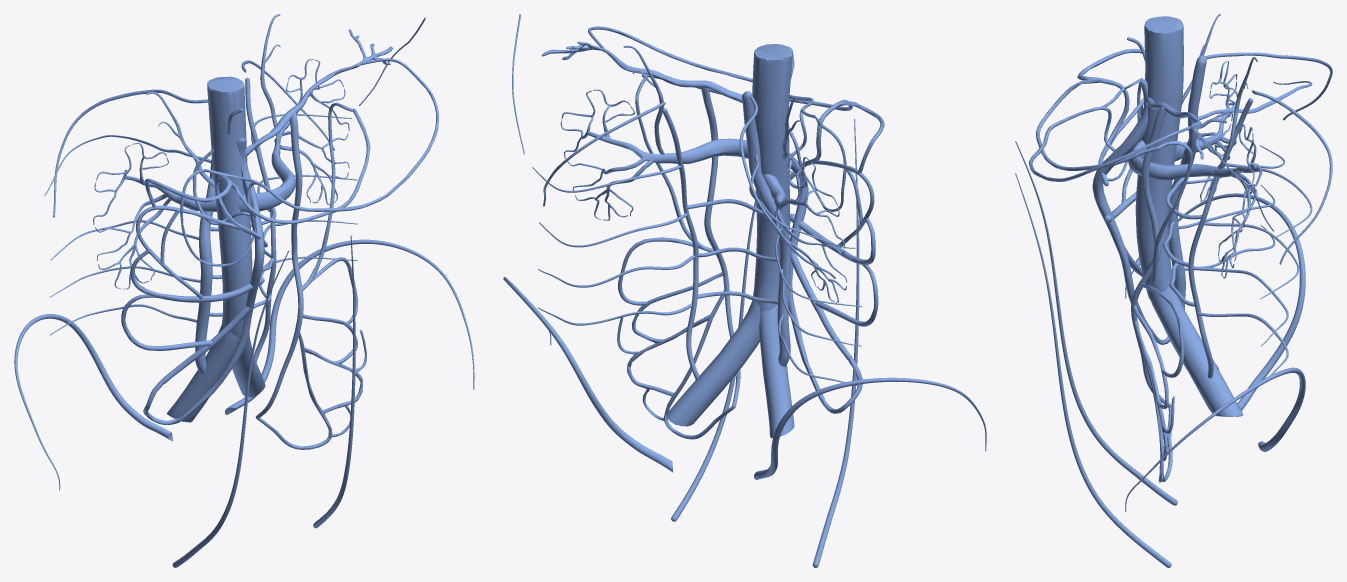
File: veines-abdomen.hi.glb
3 renders of one model, left to right at view 1: azimuth 30°, elevation 25°; view 2: azimuth 150°, elevation 25°; view 3: azimuth 270°, elevation 25°, orthographic. The views are drawn at different scales.
Visible parts, largest first — view 1: FJ3659, FJ3647, FJ3591, FJ3566, FJ3510, FJ3543, FJ3443, FJ3639, FJ3603, FJ3578, FJ3493, FJ3635 (+15 smaller); view 2: FJ3659, FJ3465, FJ3493, FJ3566, FJ3639, FJ3478, FJ3631, FJ3647, FJ3510, FJ3605, FJ3443, FJ3578 (+13 smaller); view 3: FJ3659, FJ3465, FJ3647, FJ3493, FJ3543, FJ3639, FJ3603, FJ3512, FJ3605, FJ3631, FJ3478, FJ3443 (+15 smaller).
Boxes of the visible parts, x1=… form: FJ3659: x1=207, y1=76, x2=252, y2=339; FJ3647: x1=143, y1=137, x2=264, y2=424; FJ3591: x1=130, y1=205, x2=264, y2=302; FJ3566: x1=167, y1=324, x2=239, y2=422; FJ3510: x1=225, y1=239, x2=474, y2=414; FJ3543: x1=144, y1=108, x2=370, y2=247; FJ3443: x1=255, y1=112, x2=303, y2=418; FJ3639: x1=256, y1=314, x2=366, y2=449; FJ3603: x1=14, y1=314, x2=173, y2=490; FJ3578: x1=93, y1=142, x2=180, y2=289; FJ3493: x1=195, y1=155, x2=215, y2=373; FJ3635: x1=44, y1=135, x2=211, y2=335; FJ3659: x1=752, y1=44, x2=792, y2=313; FJ3465: x1=667, y1=300, x2=760, y2=426; FJ3493: x1=742, y1=91, x2=790, y2=366; FJ3566: x1=759, y1=305, x2=794, y2=438; FJ3639: x1=617, y1=272, x2=734, y2=439; FJ3478: x1=560, y1=89, x2=675, y2=220; FJ3631: x1=532, y1=165, x2=695, y2=325; FJ3647: x1=788, y1=153, x2=862, y2=413; FJ3510: x1=503, y1=277, x2=672, y2=472; FJ3605: x1=812, y1=119, x2=859, y2=567; FJ3443: x1=701, y1=87, x2=740, y2=407; FJ3578: x1=774, y1=157, x2=847, y2=302; FJ3659: x1=1135, y1=16, x2=1183, y2=299; FJ3465: x1=1150, y1=284, x2=1243, y2=416; FJ3647: x1=1092, y1=79, x2=1169, y2=344; FJ3493: x1=1169, y1=55, x2=1206, y2=309; FJ3543: x1=1036, y1=48, x2=1160, y2=186; FJ3639: x1=1133, y1=305, x2=1174, y2=482; FJ3603: x1=1125, y1=193, x2=1305, y2=410; FJ3512: x1=1015, y1=173, x2=1171, y2=567; FJ3605: x1=1015, y1=141, x2=1177, y2=505; FJ3631: x1=1192, y1=163, x2=1312, y2=375; FJ3478: x1=1208, y1=124, x2=1262, y2=278; FJ3443: x1=1131, y1=107, x2=1171, y2=407.
Bounding box in the file's own units: 0.2558 × 0.2763 × 0.1531.
